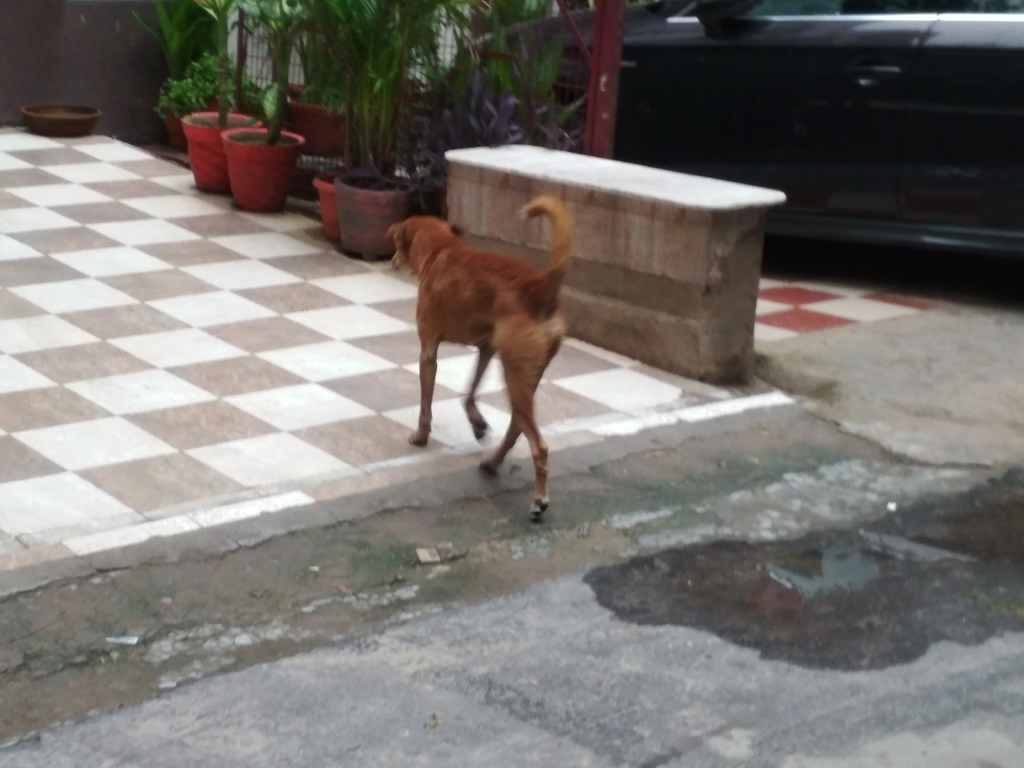dog: (385, 194, 573, 521)
